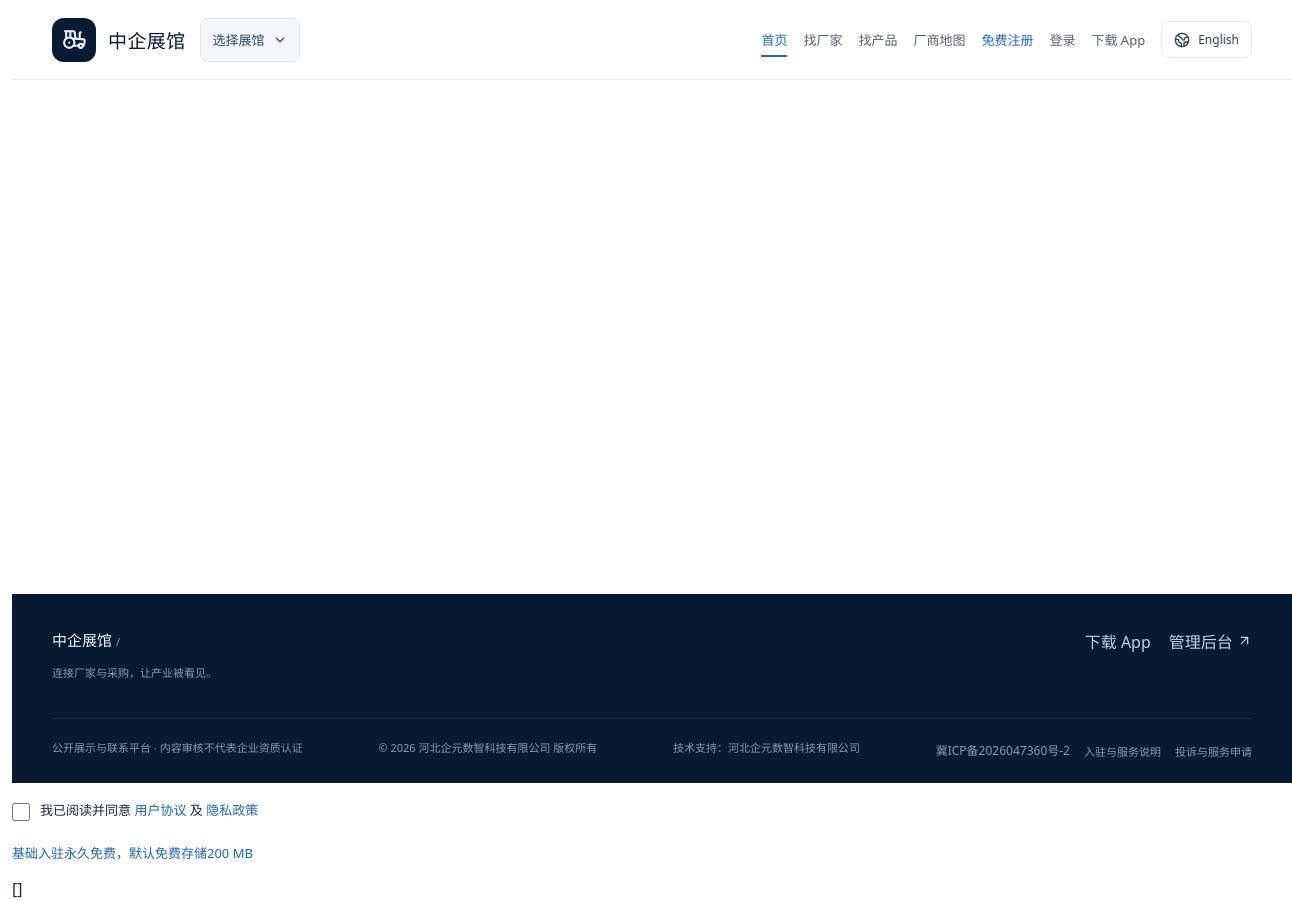
requires an unchecked, explicit version-and-digest registration acceptance
(page scrolled)
Click the checkbox: (21, 812) [12, 803, 30, 821]
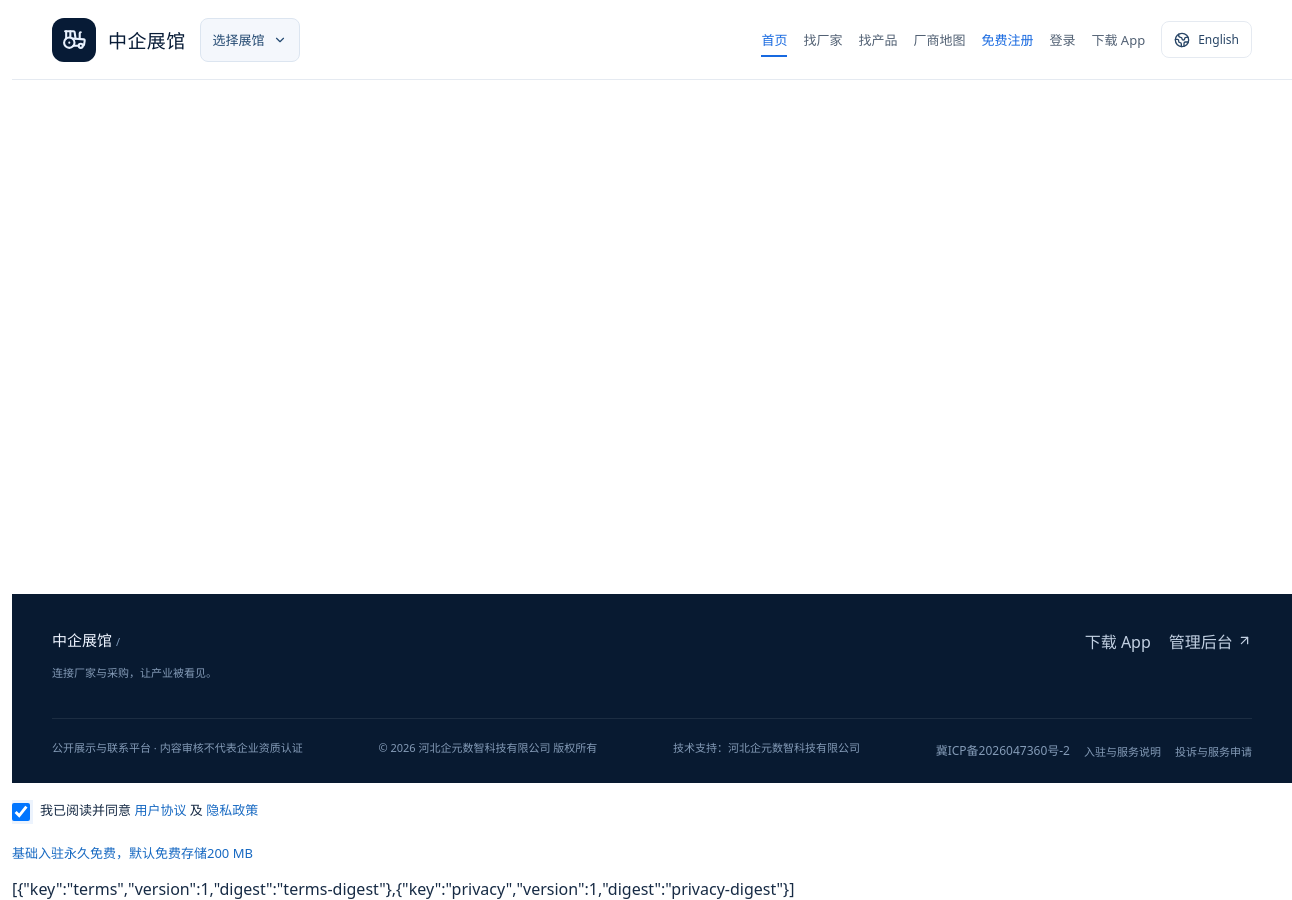
Expected: the text "terms-digest" is shown, [12, 878, 794, 899]
Click the checkbox: (21, 812) [12, 803, 30, 821]
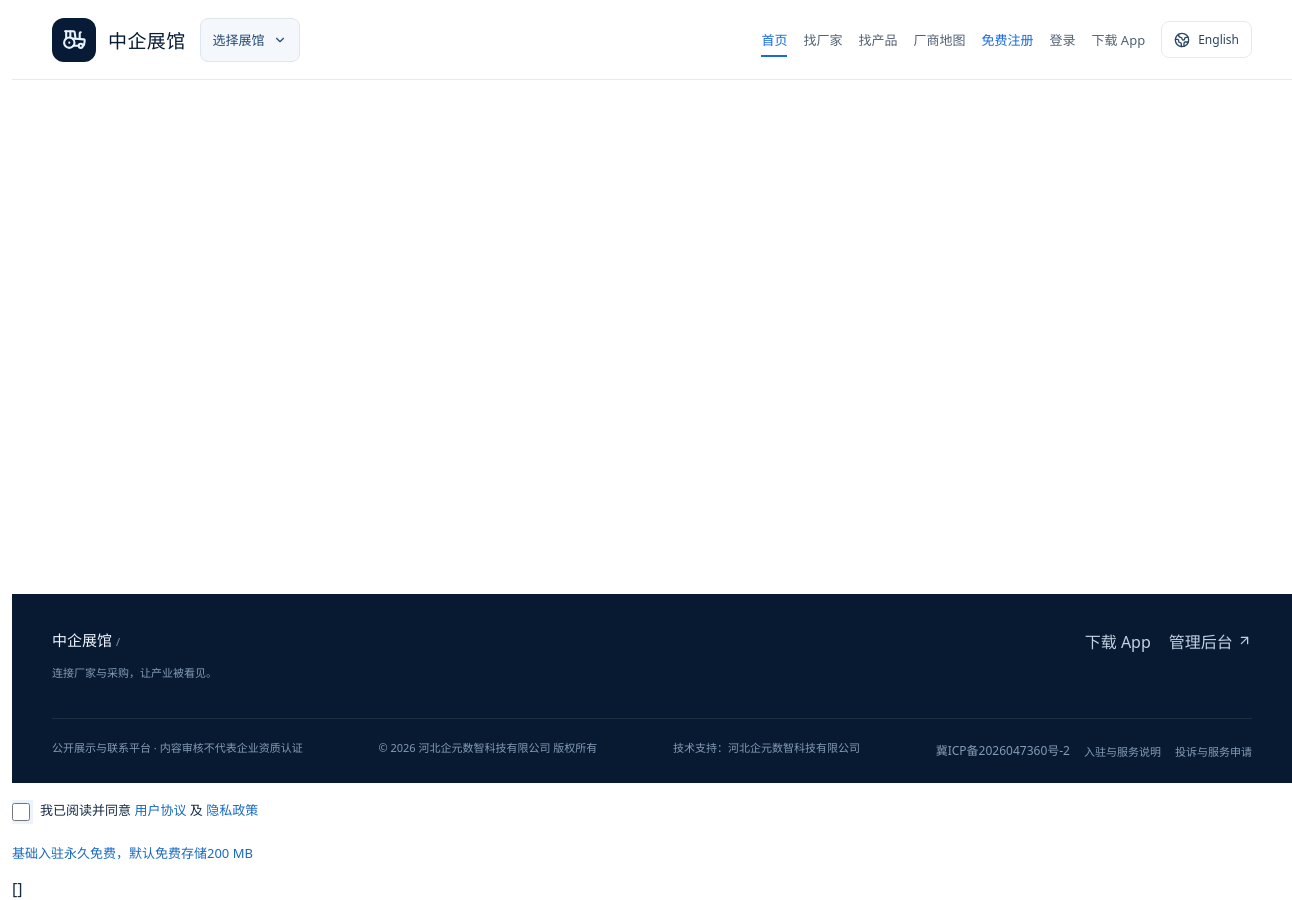
Expected: the text "[]" is shown, [12, 878, 22, 899]
